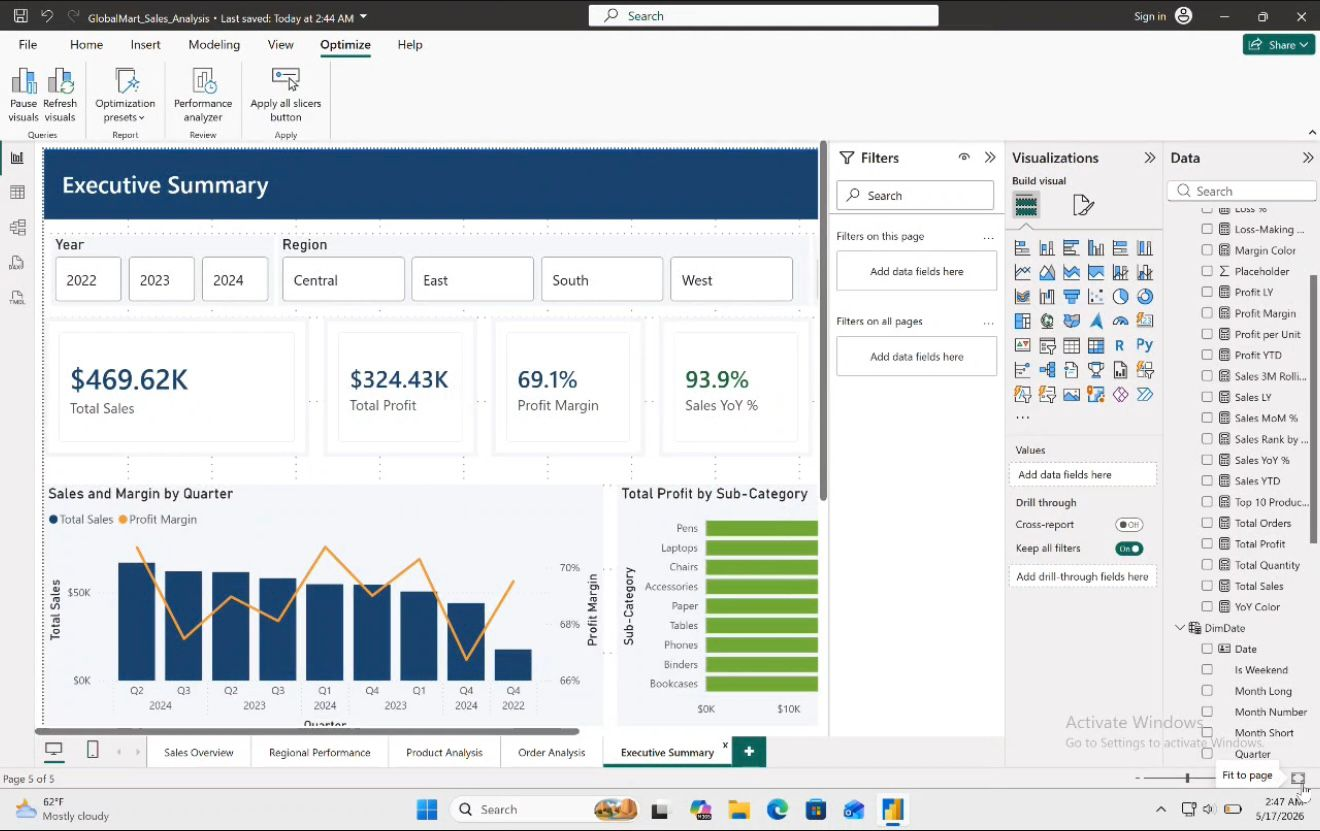

Layout of this report page (visuals, bound fields, positions):
{"tool":"powerbi","page":{"name":"Executive Summary","canvas":[1280,1080],"ordinal":4},"visuals":[{"type":"group","id":"g1","title":"Group 1","box":[0,0,1280,80],"z":0},{"type":"shape","box":[0,0,1280,80],"z":0,"group":"g1"},{"type":"advancedSlicerVisual","fields":{"Values":["Sales.Region"]},"box":[268.2,99.3,608,80],"z":1},{"type":"advancedSlicerVisual","fields":{"Values":["DimDate.Year"]},"box":[8.3,99.3,256,80],"z":2},{"type":"advancedSlicerVisual","fields":{"Values":["Sales.Category"]},"box":[880,99.3,400,80],"z":3},{"type":"cardVisual","fields":{"Data":["_Measures.Total Sales"]},"box":[0,192,304,160],"z":4},{"type":"cardVisual","fields":{"Data":["_Measures.Total Profit"]},"box":[320,192,176,160],"z":5},{"type":"cardVisual","fields":{"Data":["_Measures.Profit Margin"]},"box":[512,192,176,160],"z":6},{"type":"cardVisual","fields":{"Data":["_Measures.Sales YoY %"]},"box":[704,192,176,160],"z":7},{"type":"cardVisual","fields":{"Data":["_Measures.Avg Order Value"]},"box":[896,192,176,160],"z":8},{"type":"lineClusteredColumnComboChart","title":"Sales and Margin by Quarter","fields":{"Category":["DimDate.Year","DimDate.Quarter"],"Y":["_Measures.Total Sales"],"Y2":["_Measures.Profit Margin"]},"box":[0,384,640,288],"z":9},{"type":"clusteredBarChart","fields":{"Category":["Sales.Sub-Category"],"Y":["_Measures.Total Profit"]},"box":[656,384,624,288],"z":10},{"type":"textbox","title":"Key Insights","box":[656,752,624,288],"z":11},{"type":"clusteredBarChart","title":"Sales by Region","fields":{"Category":["Sales.Region"],"Y":["_Measures.Total Sales"]},"box":[0,752,640,288],"z":12},{"type":"actionButton","box":[1168,16,32,48],"z":13},{"type":"textbox","box":[16,16,288,48],"z":1000,"group":"g1"}]}

Visuals, with their boxes on the page's 1280x1080 design canvas (x1, y1, x2, y2). These are canvas units, not pixel positions in the 1320x831 screenshot, which may show the page scaled, cropped or inside an application window:
"Group 1" group: locate(0, 0, 1280, 80)
shape: locate(0, 0, 1280, 80)
advancedSlicerVisual - Sales.Region: locate(268, 99, 876, 179)
advancedSlicerVisual - DimDate.Year: locate(8, 99, 264, 179)
advancedSlicerVisual - Sales.Category: locate(880, 99, 1280, 179)
cardVisual - _Measures.Total Sales: locate(0, 192, 304, 352)
cardVisual - _Measures.Total Profit: locate(320, 192, 496, 352)
cardVisual - _Measures.Profit Margin: locate(512, 192, 688, 352)
cardVisual - _Measures.Sales YoY %: locate(704, 192, 880, 352)
cardVisual - _Measures.Avg Order Value: locate(896, 192, 1072, 352)
"Sales and Margin by Quarter" lineClusteredColumnComboChart: locate(0, 384, 640, 672)
clusteredBarChart - Sales.Sub-Category x _Measures.Total Profit: locate(656, 384, 1280, 672)
"Key Insights" textbox: locate(656, 752, 1280, 1040)
"Sales by Region" clusteredBarChart: locate(0, 752, 640, 1040)
actionButton: locate(1168, 16, 1200, 64)
textbox: locate(16, 16, 304, 64)
